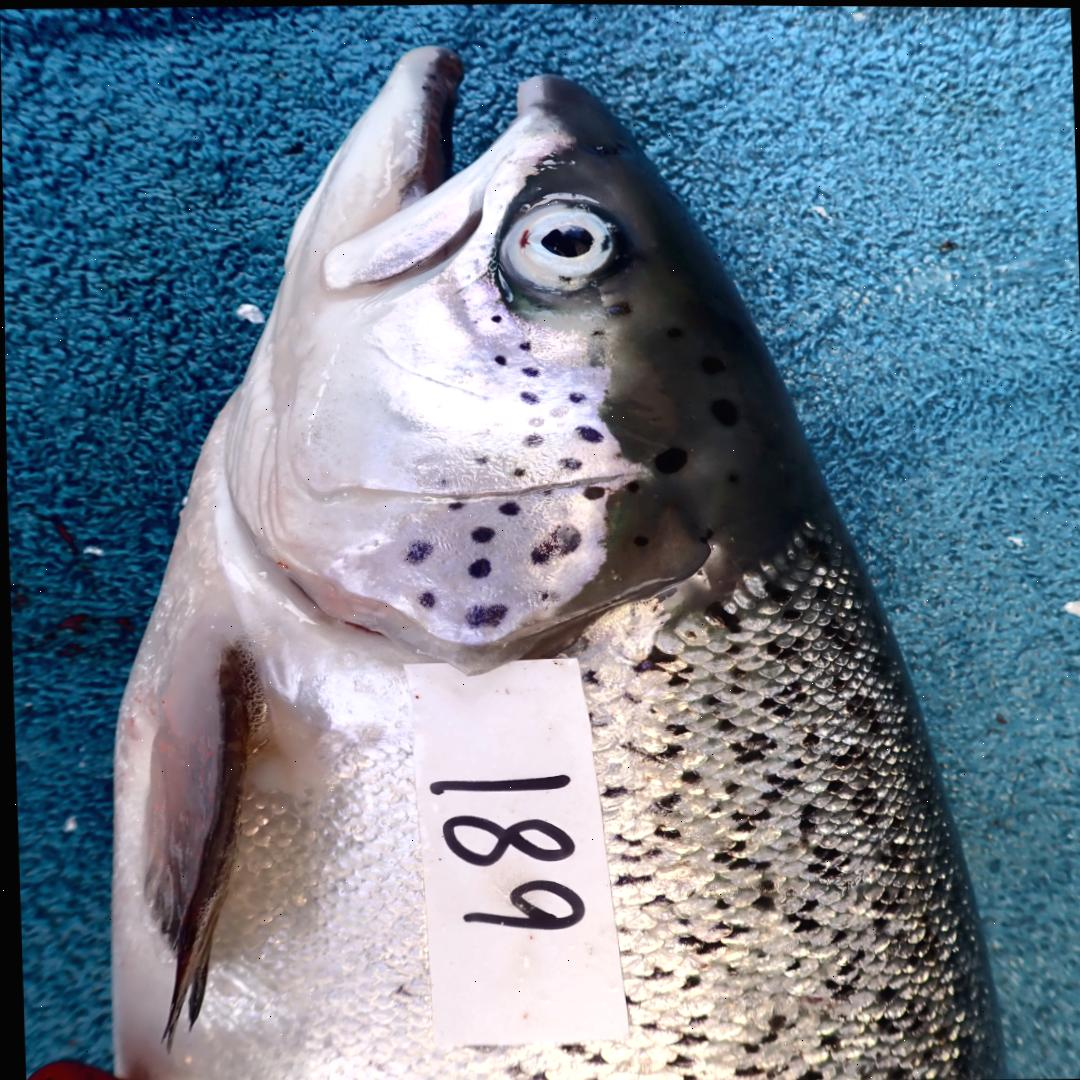spot: (529, 525, 579, 564), (465, 603, 505, 627), (403, 540, 429, 563), (573, 425, 602, 442), (466, 558, 489, 578), (468, 526, 494, 543), (496, 500, 519, 515), (416, 591, 433, 608), (581, 486, 603, 499), (560, 457, 580, 470), (522, 434, 540, 447), (536, 590, 557, 601), (518, 391, 536, 402), (520, 366, 539, 376), (622, 480, 637, 492), (567, 393, 584, 402), (448, 501, 462, 510), (517, 340, 528, 351), (528, 417, 542, 425), (472, 455, 486, 463), (492, 355, 503, 364), (512, 468, 523, 477), (490, 315, 499, 321)
